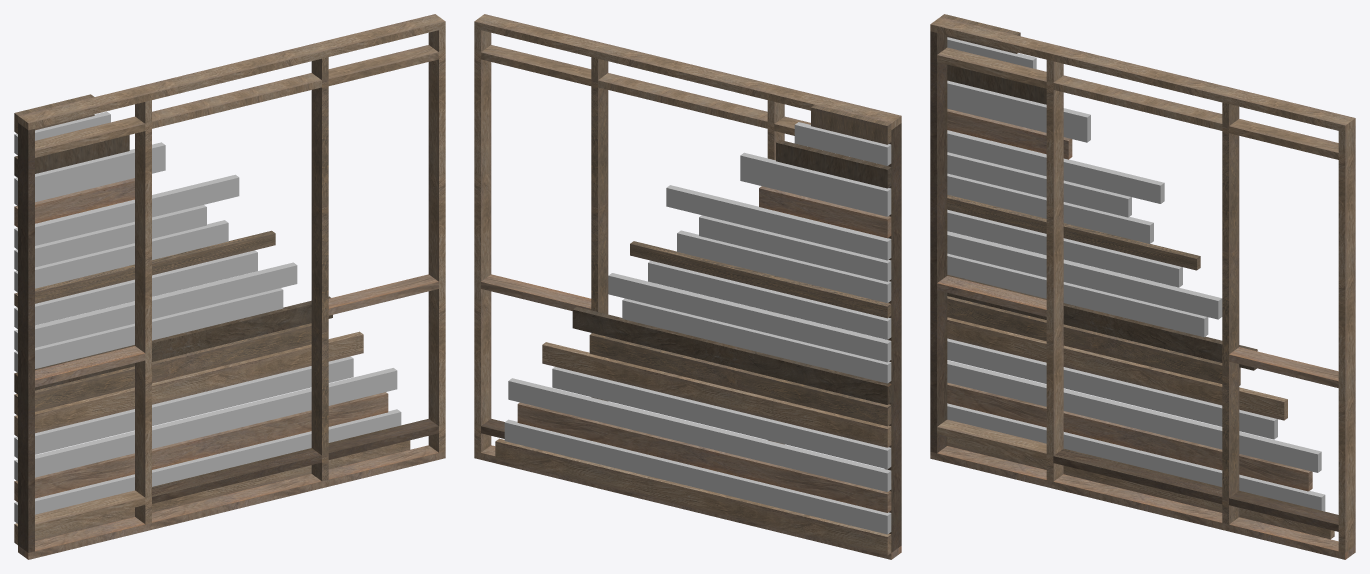
File: WallPeiceDestroyF.fbx
3 renders of one model, left to right at view 1: azimuth 30°, elevation 25°; view 2: azimuth 150°, elevation 25°; view 3: azimuth 330°, elevation 25°, orthographic.
Visible parts, largest first — view 1: WallPeiceDestroyF; view 2: WallPeiceDestroyF; view 3: WallPeiceDestroyF.
Part boxes in pixels (x1,y1,x2,y2): WallPeiceDestroyF: [14, 14, 445, 559]; WallPeiceDestroyF: [474, 14, 901, 559]; WallPeiceDestroyF: [930, 14, 1355, 559].
Bounding box in the file's own units: 374 × 374 × 22.
